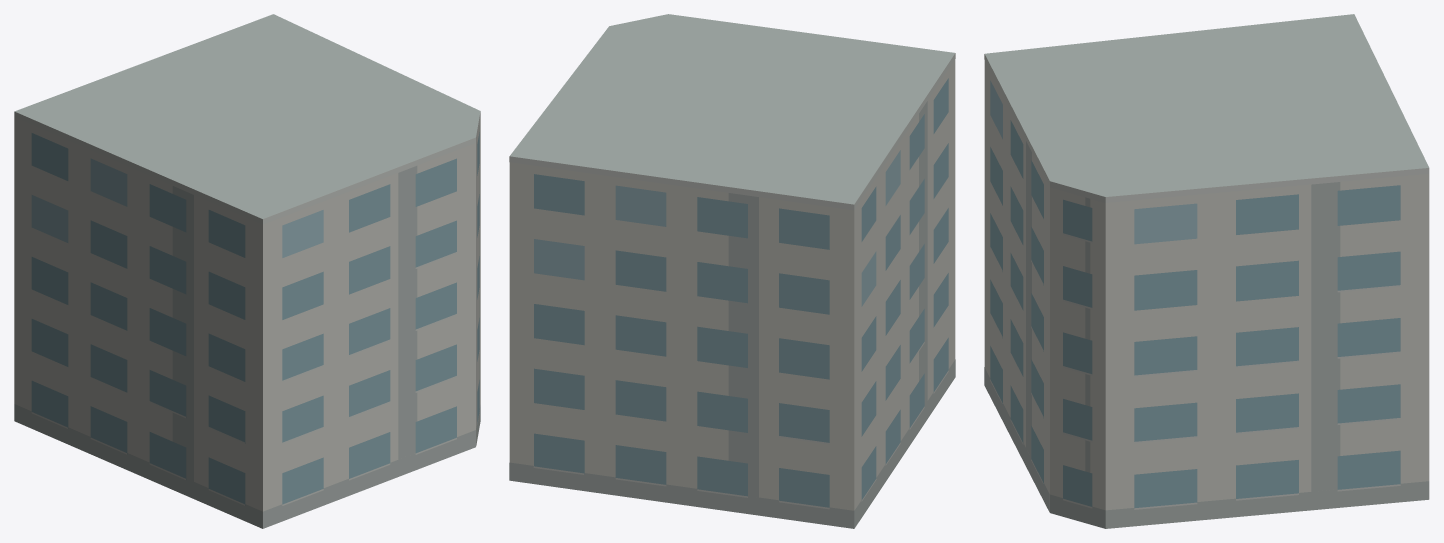
File: survey-upis-32803763.glb
The picture shows the model from 3 angles, left to right: view 1: azimuth 30°, elevation 25°; view 2: azimuth 150°, elevation 25°; view 3: azimuth 270°, elevation 25°; orthographic projection. The views are drawn at different scales.
Visible parts, largest first — view 1: survey-upis-32803763.tmp; view 2: survey-upis-32803763.tmp; view 3: survey-upis-32803763.tmp.
Part boxes in pixels (left/top/right/bottom): survey-upis-32803763.tmp: left=14, top=14, right=480, bottom=528; survey-upis-32803763.tmp: left=509, top=14, right=955, bottom=528; survey-upis-32803763.tmp: left=984, top=14, right=1429, bottom=528.
Bounding box in the file's own units: 15.86 × 13.4 × 16.29.
